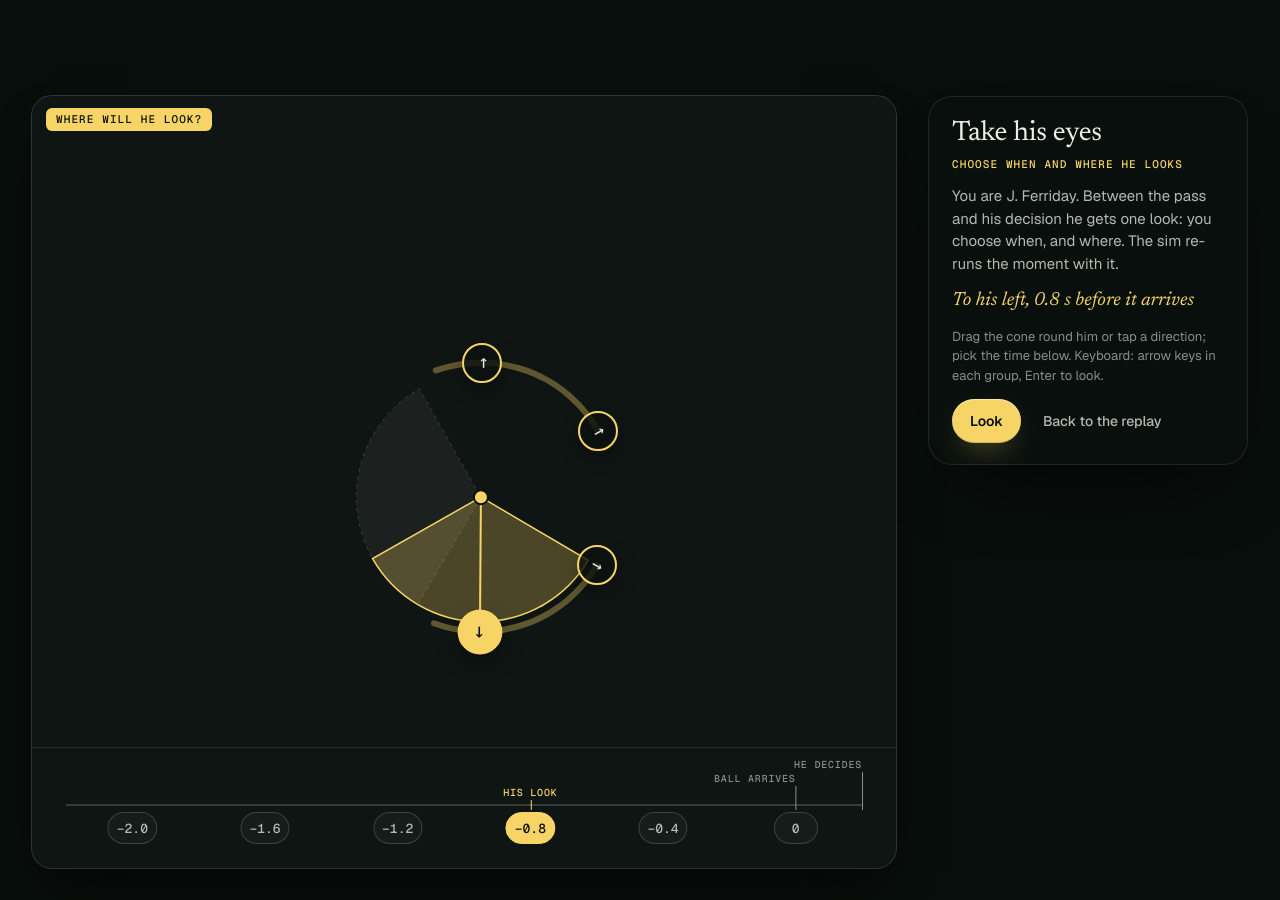
Test: Take his eyes: looking and the result › shows both runs: the look's run as the board's gold ghost over what he really did
Click the button "Look" at point(986, 421), box [952,399,1021,443]
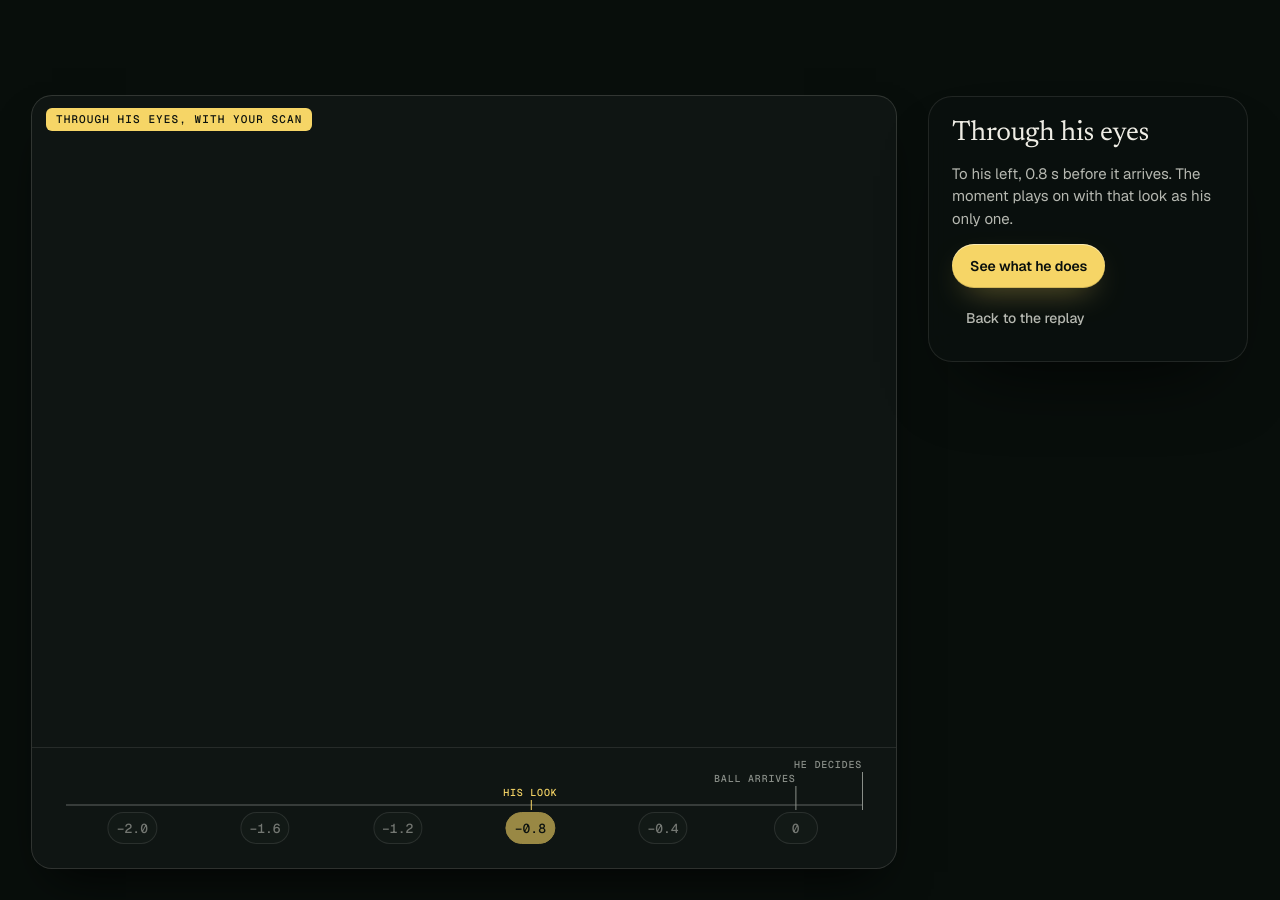
Click the button "See what he does" at point(1029, 266), box [952,244,1105,288]
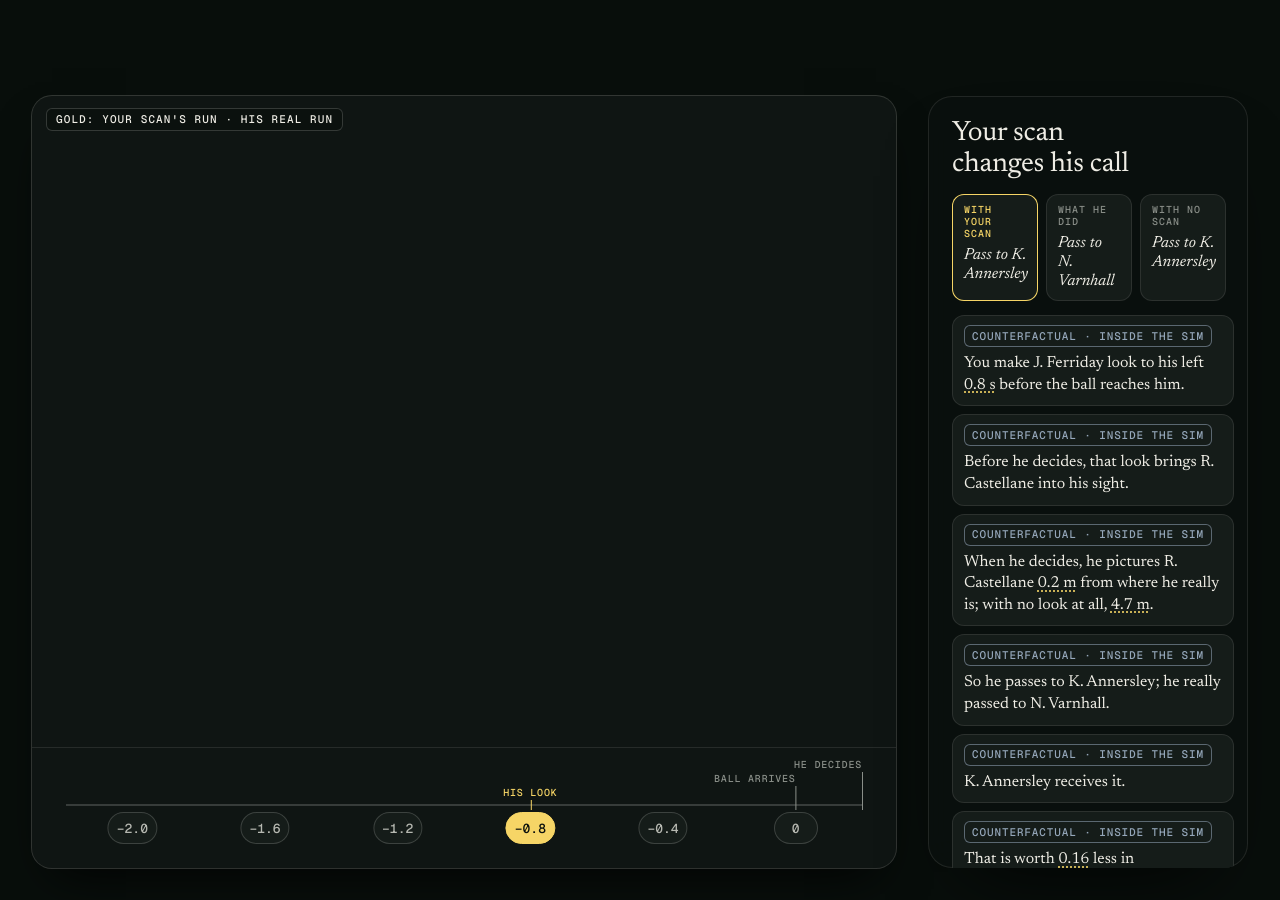
Check: the heading "Your scan changes his call" is shown, box [952,119,1129,178]
